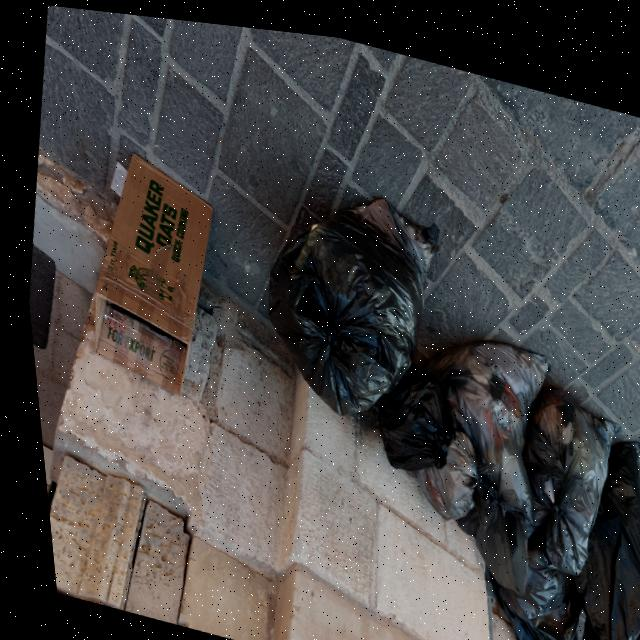Mixed Waste -Black Bag-: (236, 161, 456, 436), (380, 309, 564, 591), (492, 364, 629, 573), (532, 408, 640, 640), (358, 346, 460, 475), (459, 541, 580, 640), (395, 408, 493, 523)
Other: (63, 140, 230, 405)
